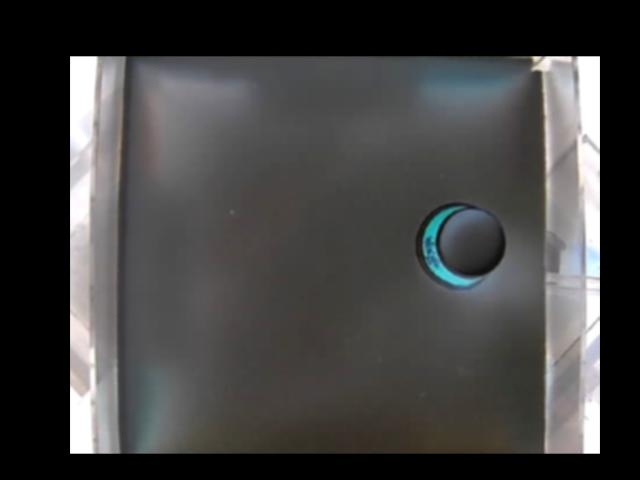Cup: (417, 198, 507, 291)
